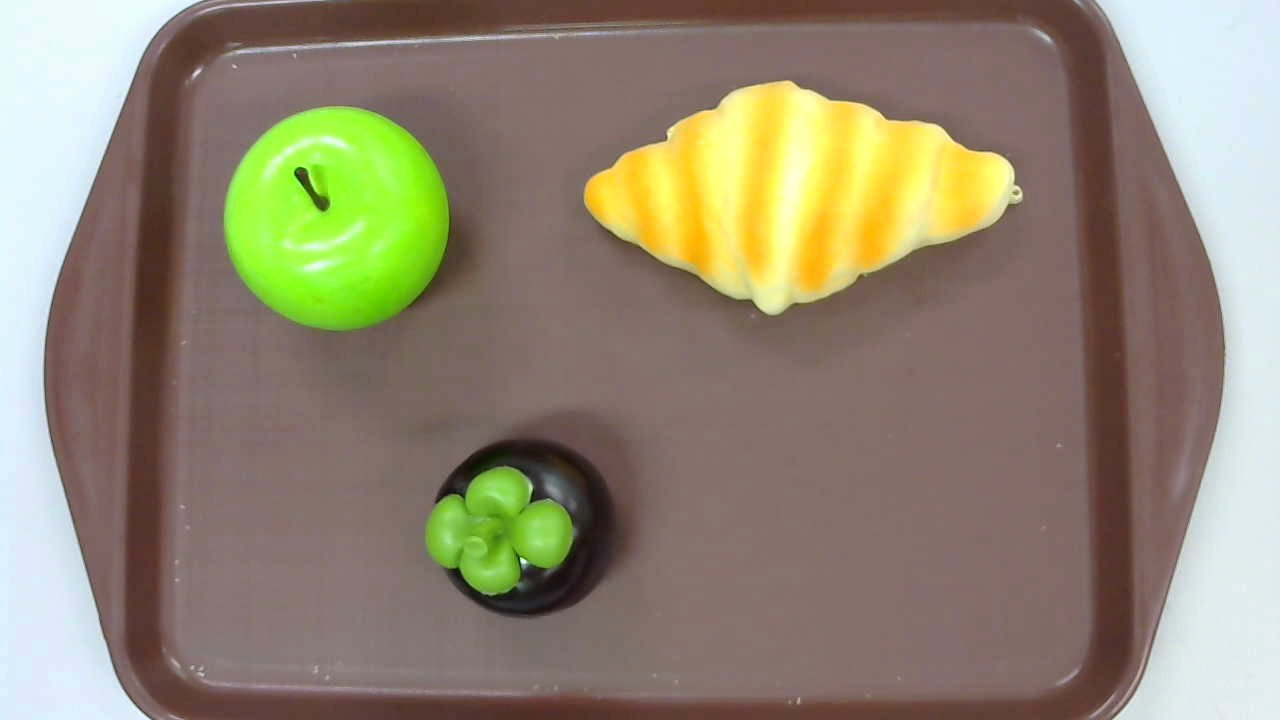croissant: (583, 79, 1023, 318)
green apple: (224, 105, 449, 334)
mangosteen: (424, 438, 617, 620)
